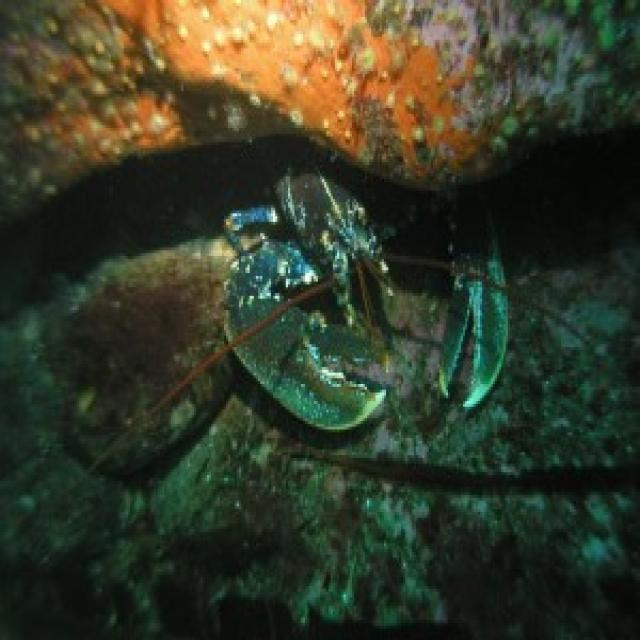lobsters: (113, 132, 540, 510)
